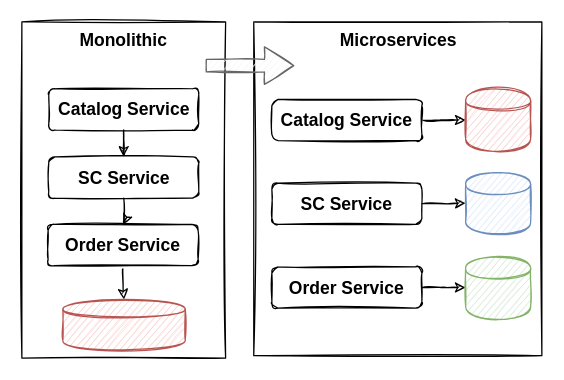
Image size: 564x380. Some labels were removed from this diagram. The centre of each missing label's shape, as x and y in pixels:
DB-A: point 497,119
DB-B: point 497,202
DB-C: point 497,287
RDBMS: point 123,324
